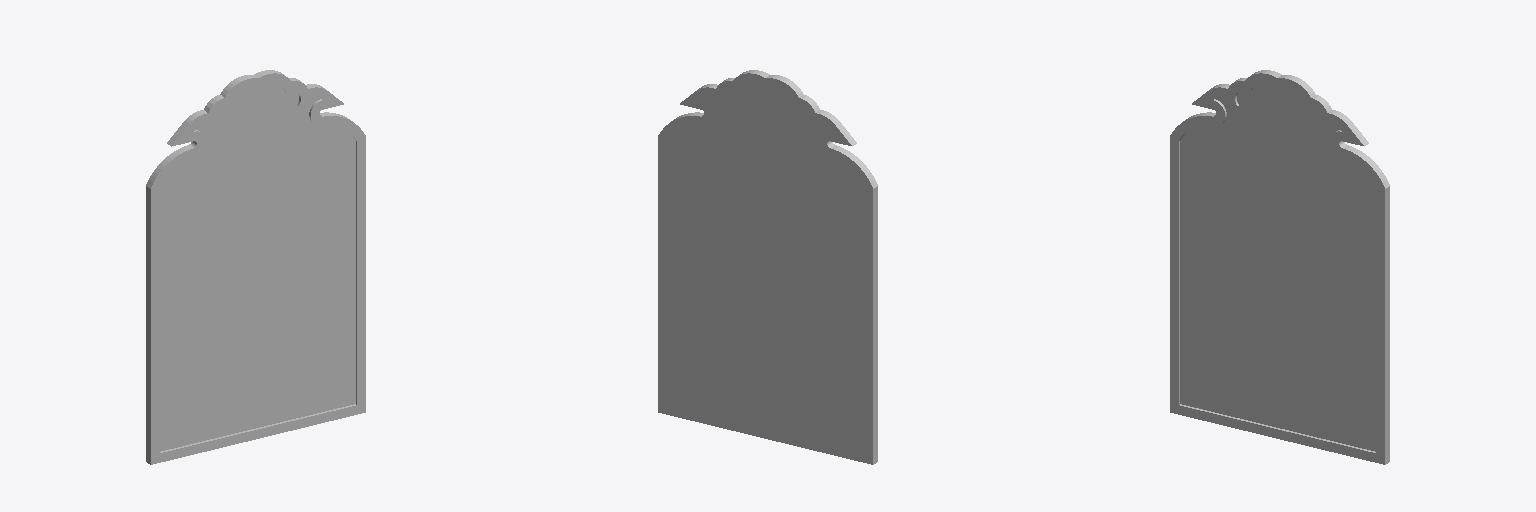
Rendered from mirror.obj.
The picture shows the model from 3 angles: view 1: azimuth 30°, elevation 25°; view 2: azimuth 150°, elevation 25°; view 3: azimuth 330°, elevation 25°; orthographic projection.
Parts seen in each view (by area): view 1: Layer0_001; view 2: Layer0_001; view 3: Layer0_001.
Part boxes in pixels (left/top/right/bottom): Layer0_001: left=146, top=70, right=365, bottom=464; Layer0_001: left=658, top=70, right=877, bottom=464; Layer0_001: left=1170, top=70, right=1389, bottom=464.
Size of the model in its own units: 792 by 1271 by 30.